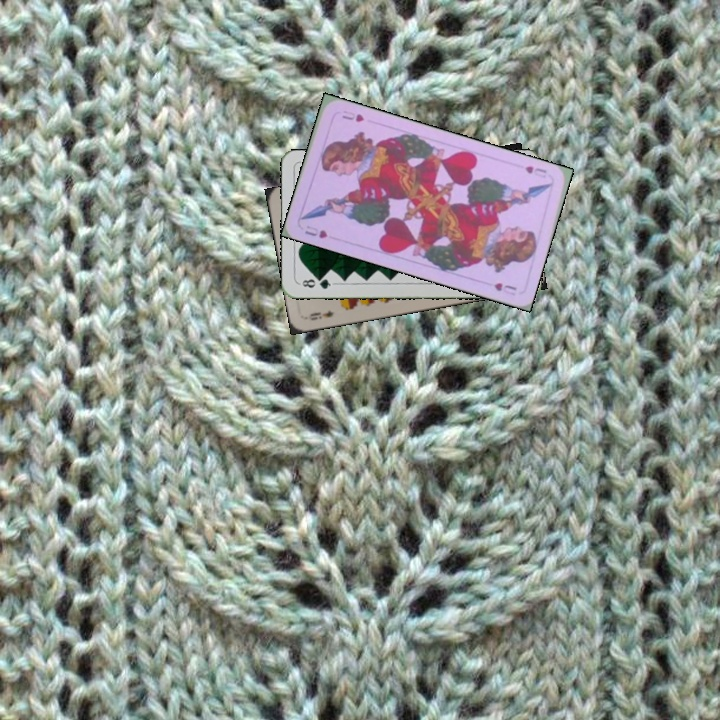E9: (305, 306, 336, 323)
G8: (296, 274, 337, 292)
HU: (301, 221, 330, 241), (521, 162, 549, 181)
